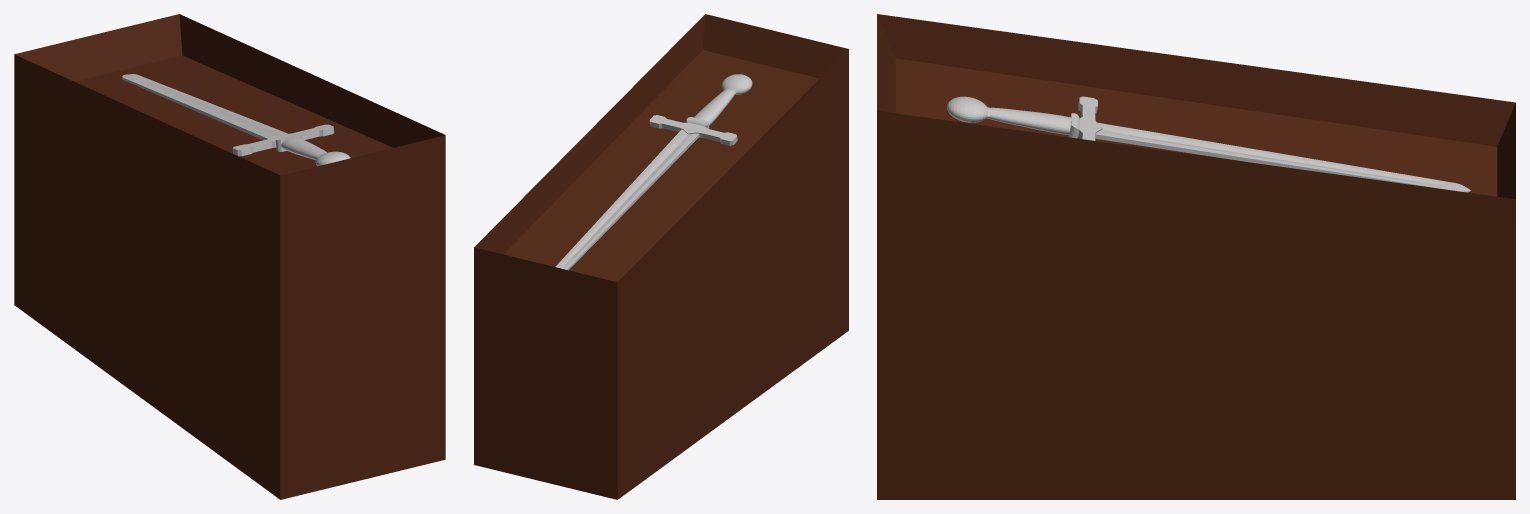
The model's file is cavalosenhorefeudal.fbx.
3 views of the same model, side by side, from view 1: azimuth 30°, elevation 25°; view 2: azimuth 150°, elevation 25°; view 3: azimuth 270°, elevation 25° (orthographic). The views are drawn at different scales.
Parts seen in each view (by area): view 1: Cube.001, Cube; view 2: Cube.001, Cube; view 3: Cube.001, Cube.
Part boxes in pixels (<box>): Cube.001: <box>14,14,445,499</box>; Cube: <box>122,74,350,166</box>; Cube.001: <box>474,14,848,499</box>; Cube: <box>555,74,752,270</box>; Cube.001: <box>877,14,1515,499</box>; Cube: <box>947,96,1470,192</box>.
Size of the model in its own units: 144 by 269 by 400.
